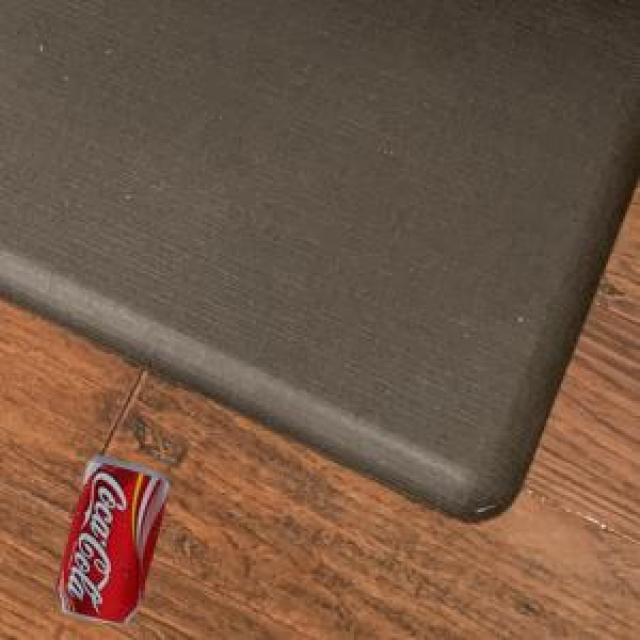logam: (54, 453, 165, 622)
